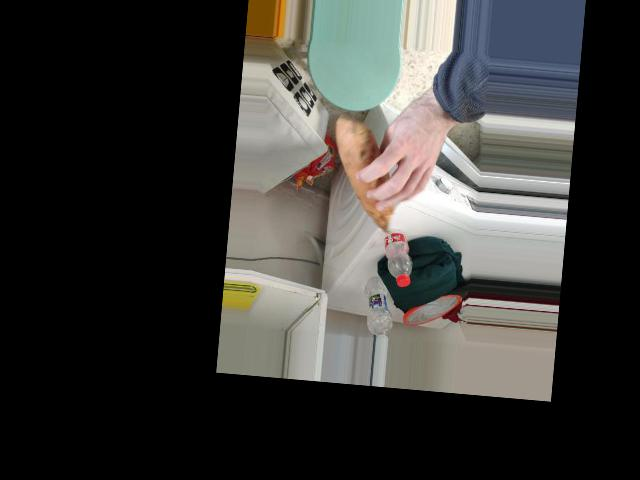sweet_potato: (330, 135, 417, 227)
